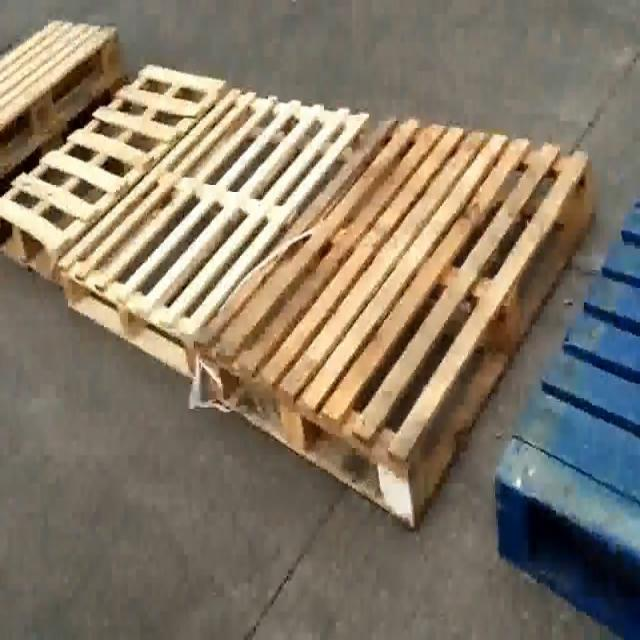Palette: (218, 120, 620, 535), (49, 87, 380, 387), (496, 157, 640, 639), (0, 71, 233, 261), (0, 11, 130, 216)
